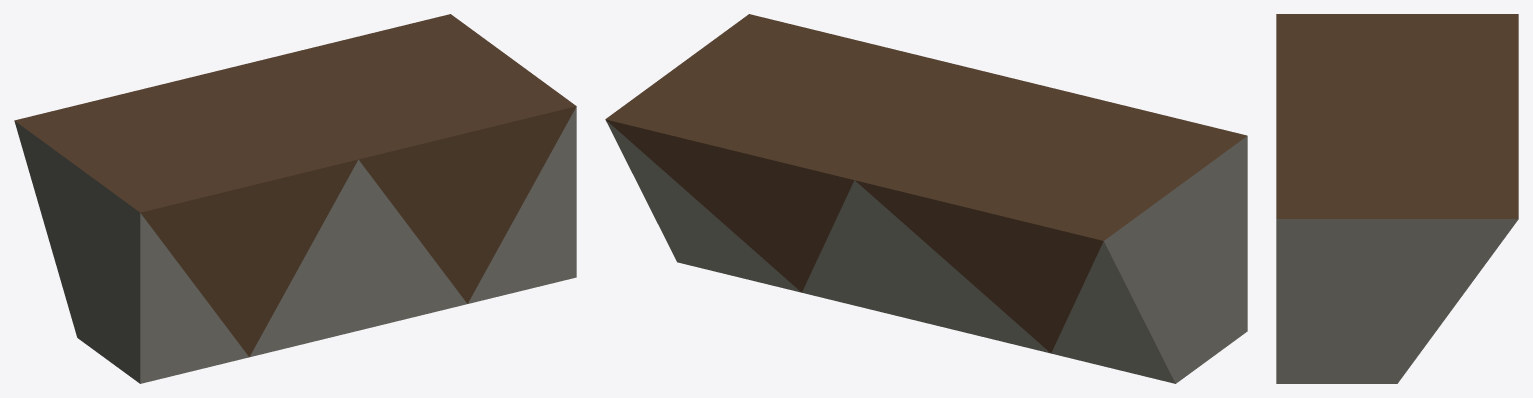
3 views of the same model, side by side, from view 1: azimuth 30°, elevation 25°; view 2: azimuth 150°, elevation 25°; view 3: azimuth 270°, elevation 25° (orthographic). The views are drawn at different scales.
Visible parts, largest first — view 1: SM_Menaphite_Ruins_Roof_07_LOD0; view 2: SM_Menaphite_Ruins_Roof_07_LOD0; view 3: SM_Menaphite_Ruins_Roof_07_LOD0.
Part boxes in pixels (x1,y1,x2,y2): SM_Menaphite_Ruins_Roof_07_LOD0: [14, 14, 576, 383]; SM_Menaphite_Ruins_Roof_07_LOD0: [605, 14, 1247, 383]; SM_Menaphite_Ruins_Roof_07_LOD0: [1276, 14, 1518, 383].
Bounding box in the file's own units: 4 × 1.5 × 2.
